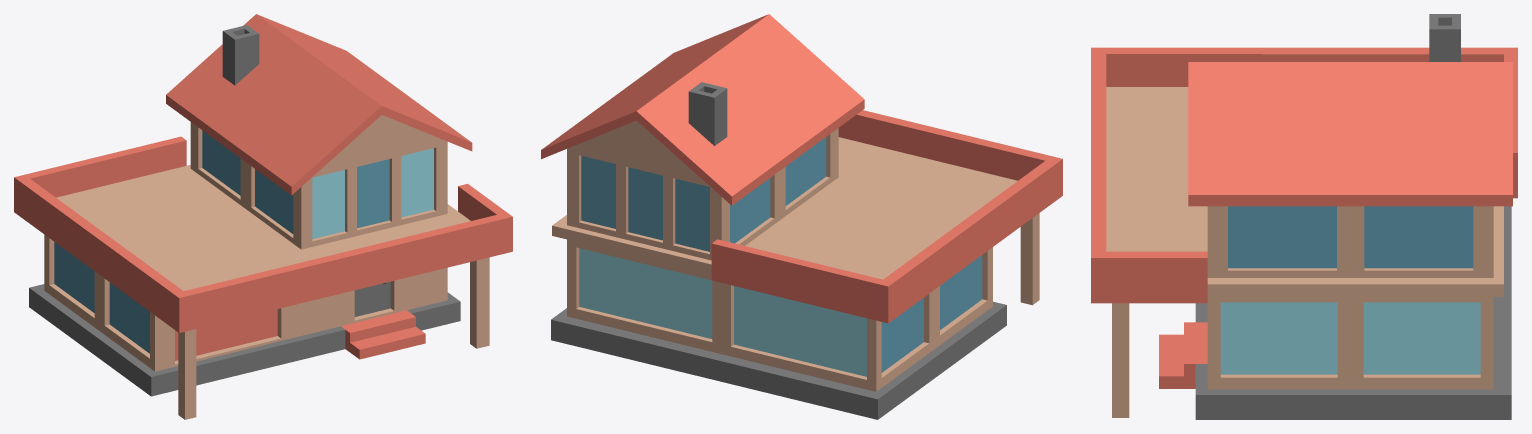
File: House 1.4.fbx
3 views of the same model, side by side, from view 1: azimuth 30°, elevation 25°; view 2: azimuth 150°, elevation 25°; view 3: azimuth 270°, elevation 25° (orthographic). The views are drawn at different scales.
Visible parts, largest first — view 1: House_Type1_4; view 2: House_Type1_4; view 3: House_Type1_4.
Boxes of the visible parts, bbox=[...] form: House_Type1_4: bbox=[14, 14, 512, 419]; House_Type1_4: bbox=[541, 14, 1062, 419]; House_Type1_4: bbox=[1091, 14, 1517, 419].
Bounding box in the file's own units: 719 × 510 × 616.
